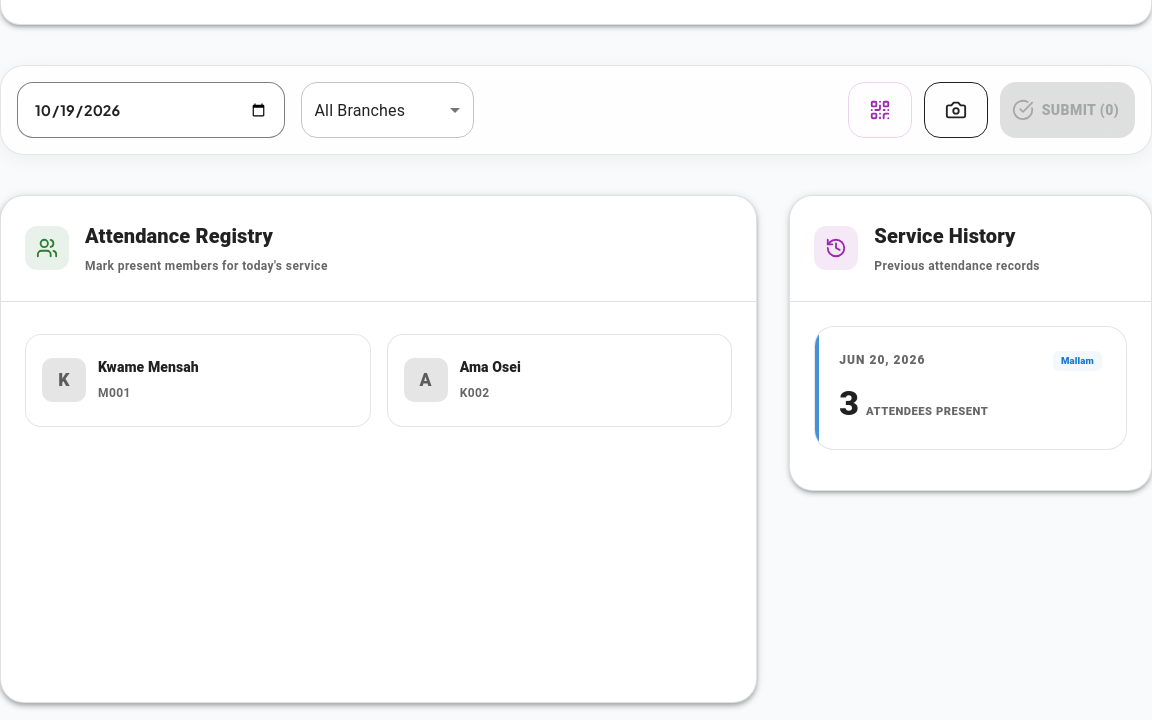
Test: Attendance Page Integration Checks › safely handles selection of attendance records containing null/corrupted attendee values without crashing
This screenshot has width=1152, height=720.
(page scrolled)
Click the text "Jun 20, 2026".
click(882, 361)  # box 839,351 -> 925,371
(page scrolled)
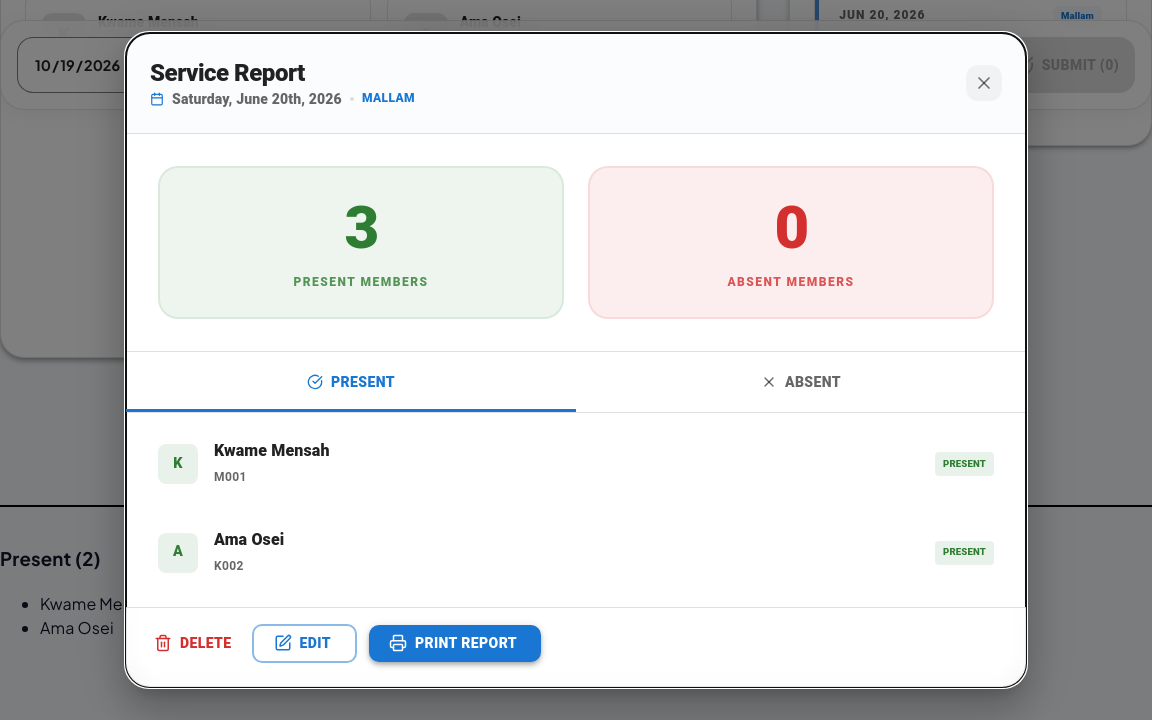
Expected: the heading "Kwame Mensah" is shown, 98,14 -> 199,30
Expected: the heading "Service Report" is shown, 150,59 -> 305,87
Expected: the element that starts with "Attendance Report" is shown, 0,379 -> 1151,656
